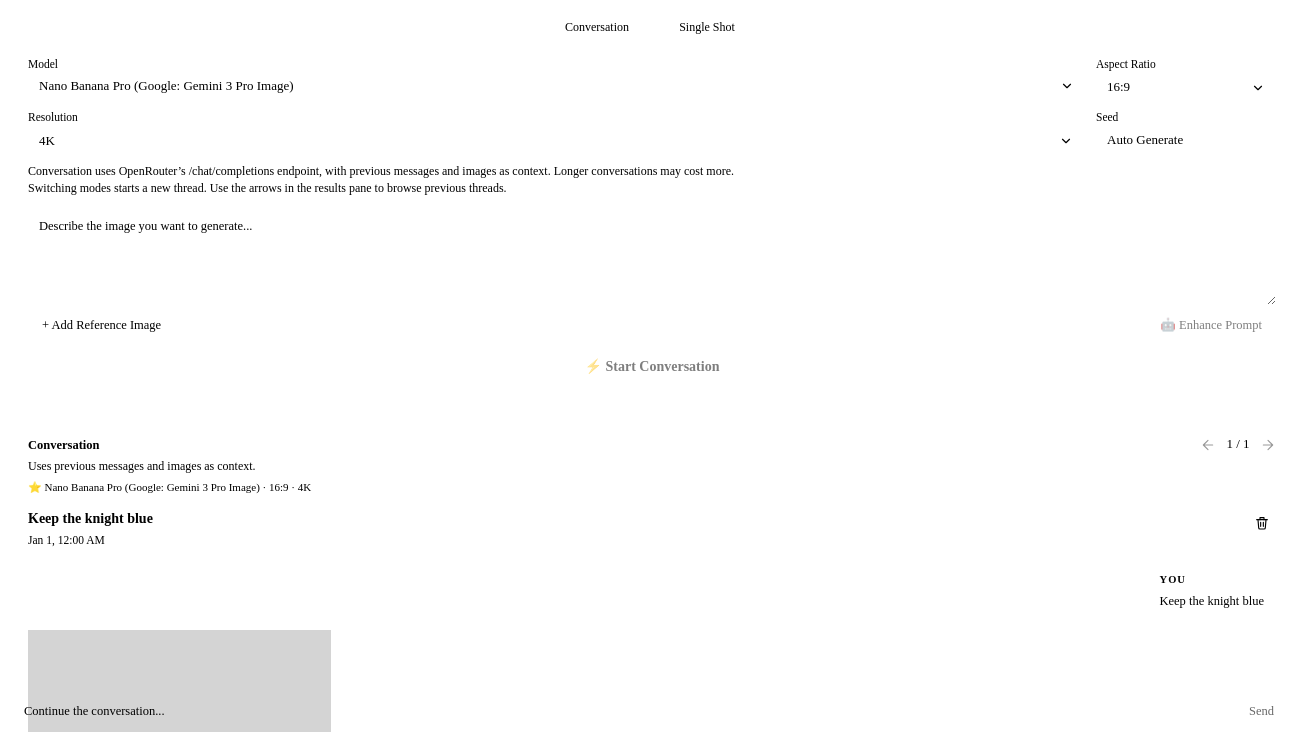
Test case: the Image tab › names the thread’s settings and says when the controls only apply to a new thread
The width and height of the screenshot is (1304, 732).
Expected: the text "⭐ Nano Banana Pro (Google: Gemini 3 Pro Image) · 16:9 · 4K" is shown, [28,480,311,492]
Expected: the text "Controls above apply to a new thread" is not shown
Select "2K" in the dropdown labelled "Resolution" at (556, 140), box [28,133,1084,148]
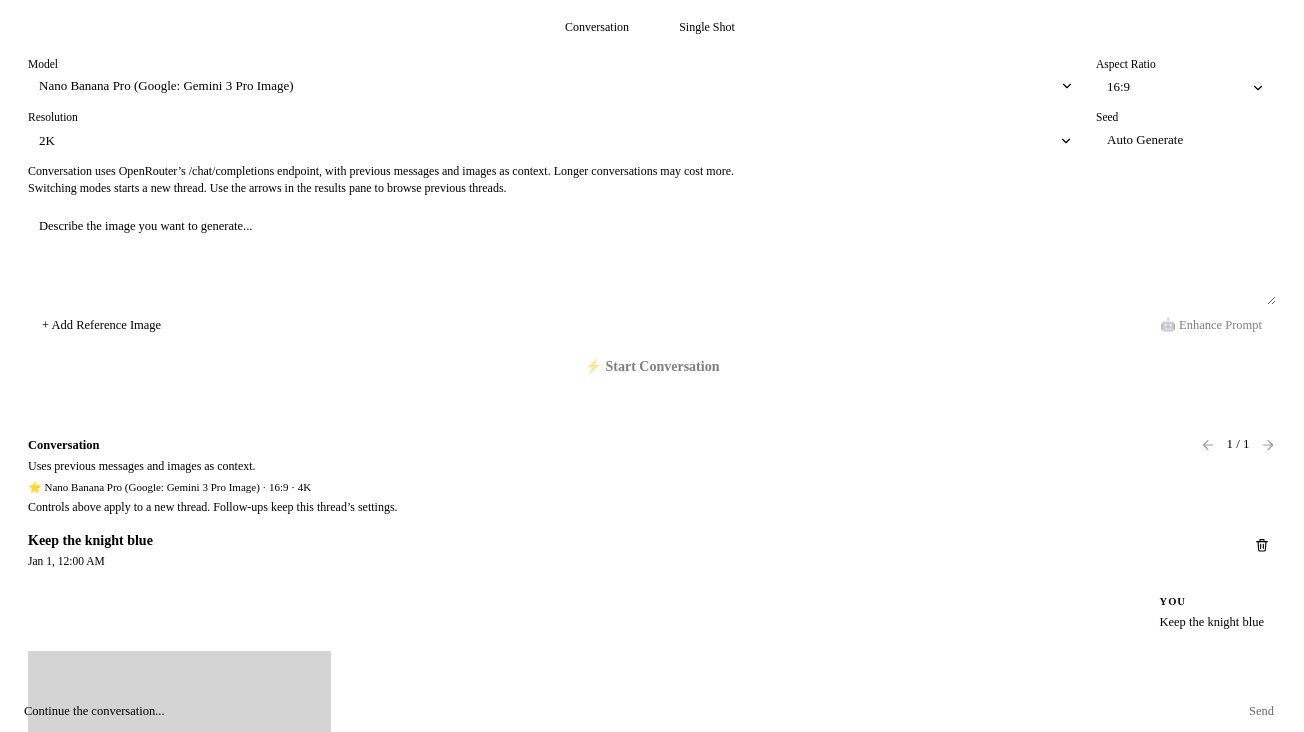
Now the text "Controls above apply to a new thread" is shown, box [28,500,398,514]
